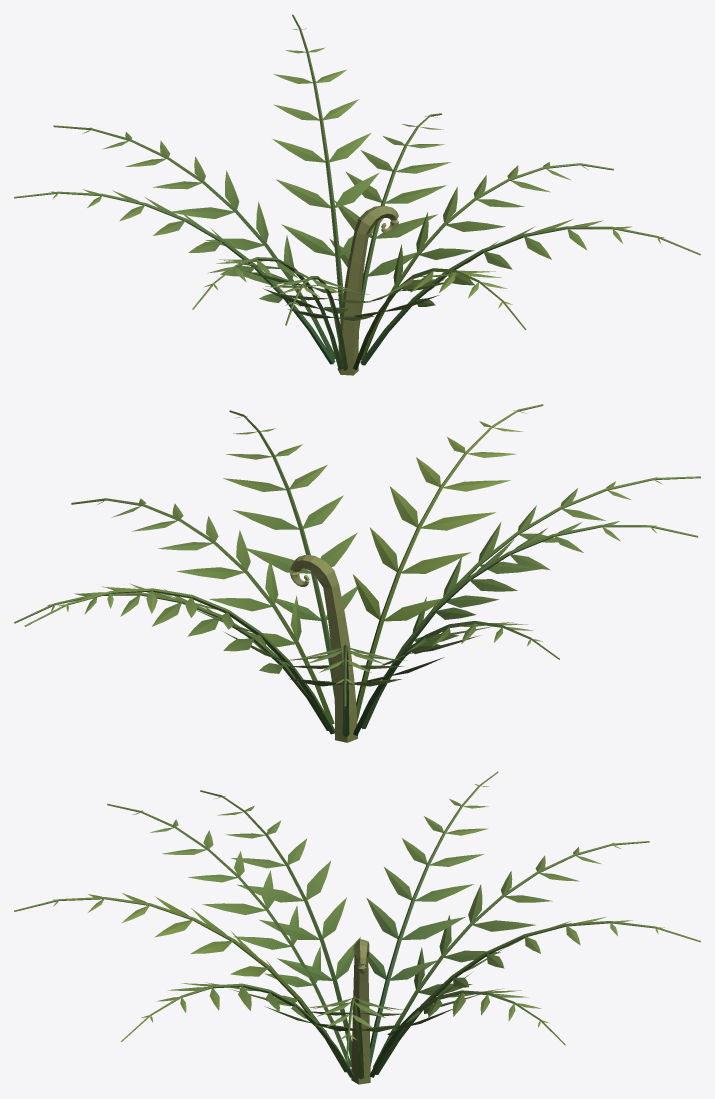
File: ground_fern_a.glb
3 renders of one model, top to bottom at view 1: azimuth 30°, elevation 25°; view 2: azimuth 150°, elevation 25°; view 3: azimuth 270°, elevation 25°, orthographic. The views are drawn at different scales.
Visible parts, largest first — view 1: ground_fern_a; view 2: ground_fern_a; view 3: ground_fern_a.
Part boxes in pixels (left/top/right/bottom): ground_fern_a: left=14, top=14, right=700, bottom=375; ground_fern_a: left=14, top=404, right=700, bottom=742; ground_fern_a: left=14, top=771, right=700, bottom=1084.
Bounding box in the file's own units: 1.2 × 0.4553 × 1.4.
